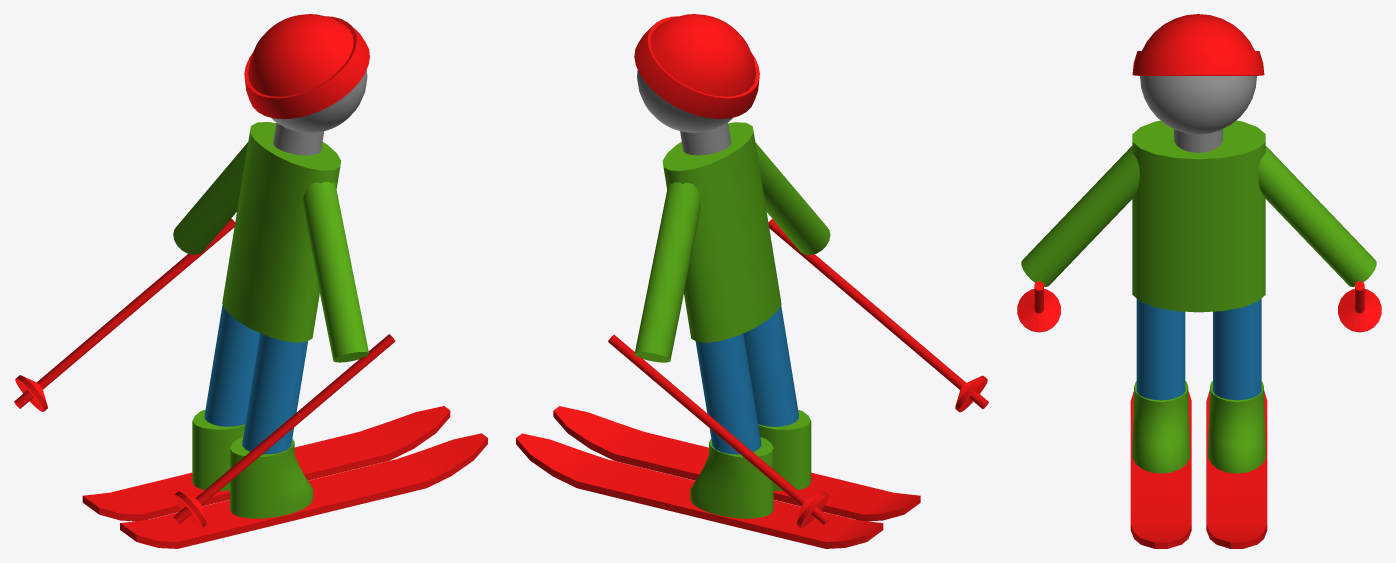
Rendered from _ki_run.fbx.
3 renders of one model, left to right at view 1: azimuth 30°, elevation 25°; view 2: azimuth 150°, elevation 25°; view 3: azimuth 270°, elevation 25°, orthographic.
Visible parts, largest first — view 1: Sphere001; view 2: Sphere001; view 3: Sphere001.
Part boxes in pixels (box(x1,y1,x2,y2)): Sphere001: box(14, 14, 487, 548); Sphere001: box(516, 14, 988, 548); Sphere001: box(1017, 14, 1381, 548).
Size of the model in its own units: 71.77 by 85.76 by 60.3.
